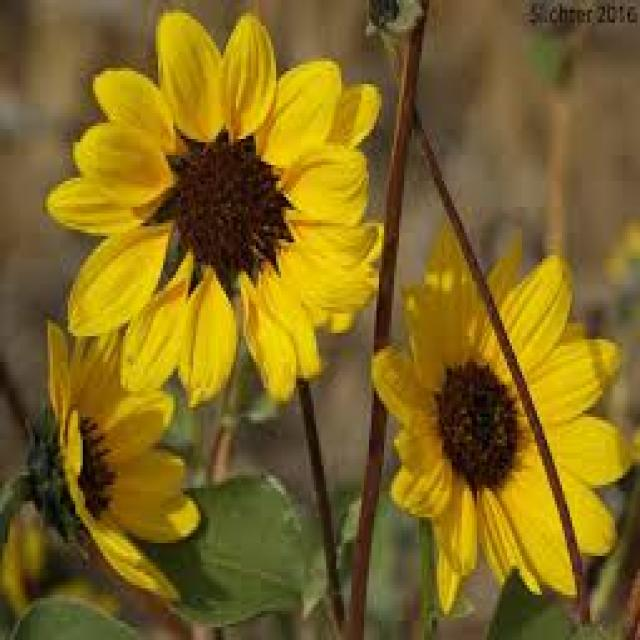sunflower: (35, 7, 389, 412), (370, 186, 640, 620), (28, 288, 202, 612)
